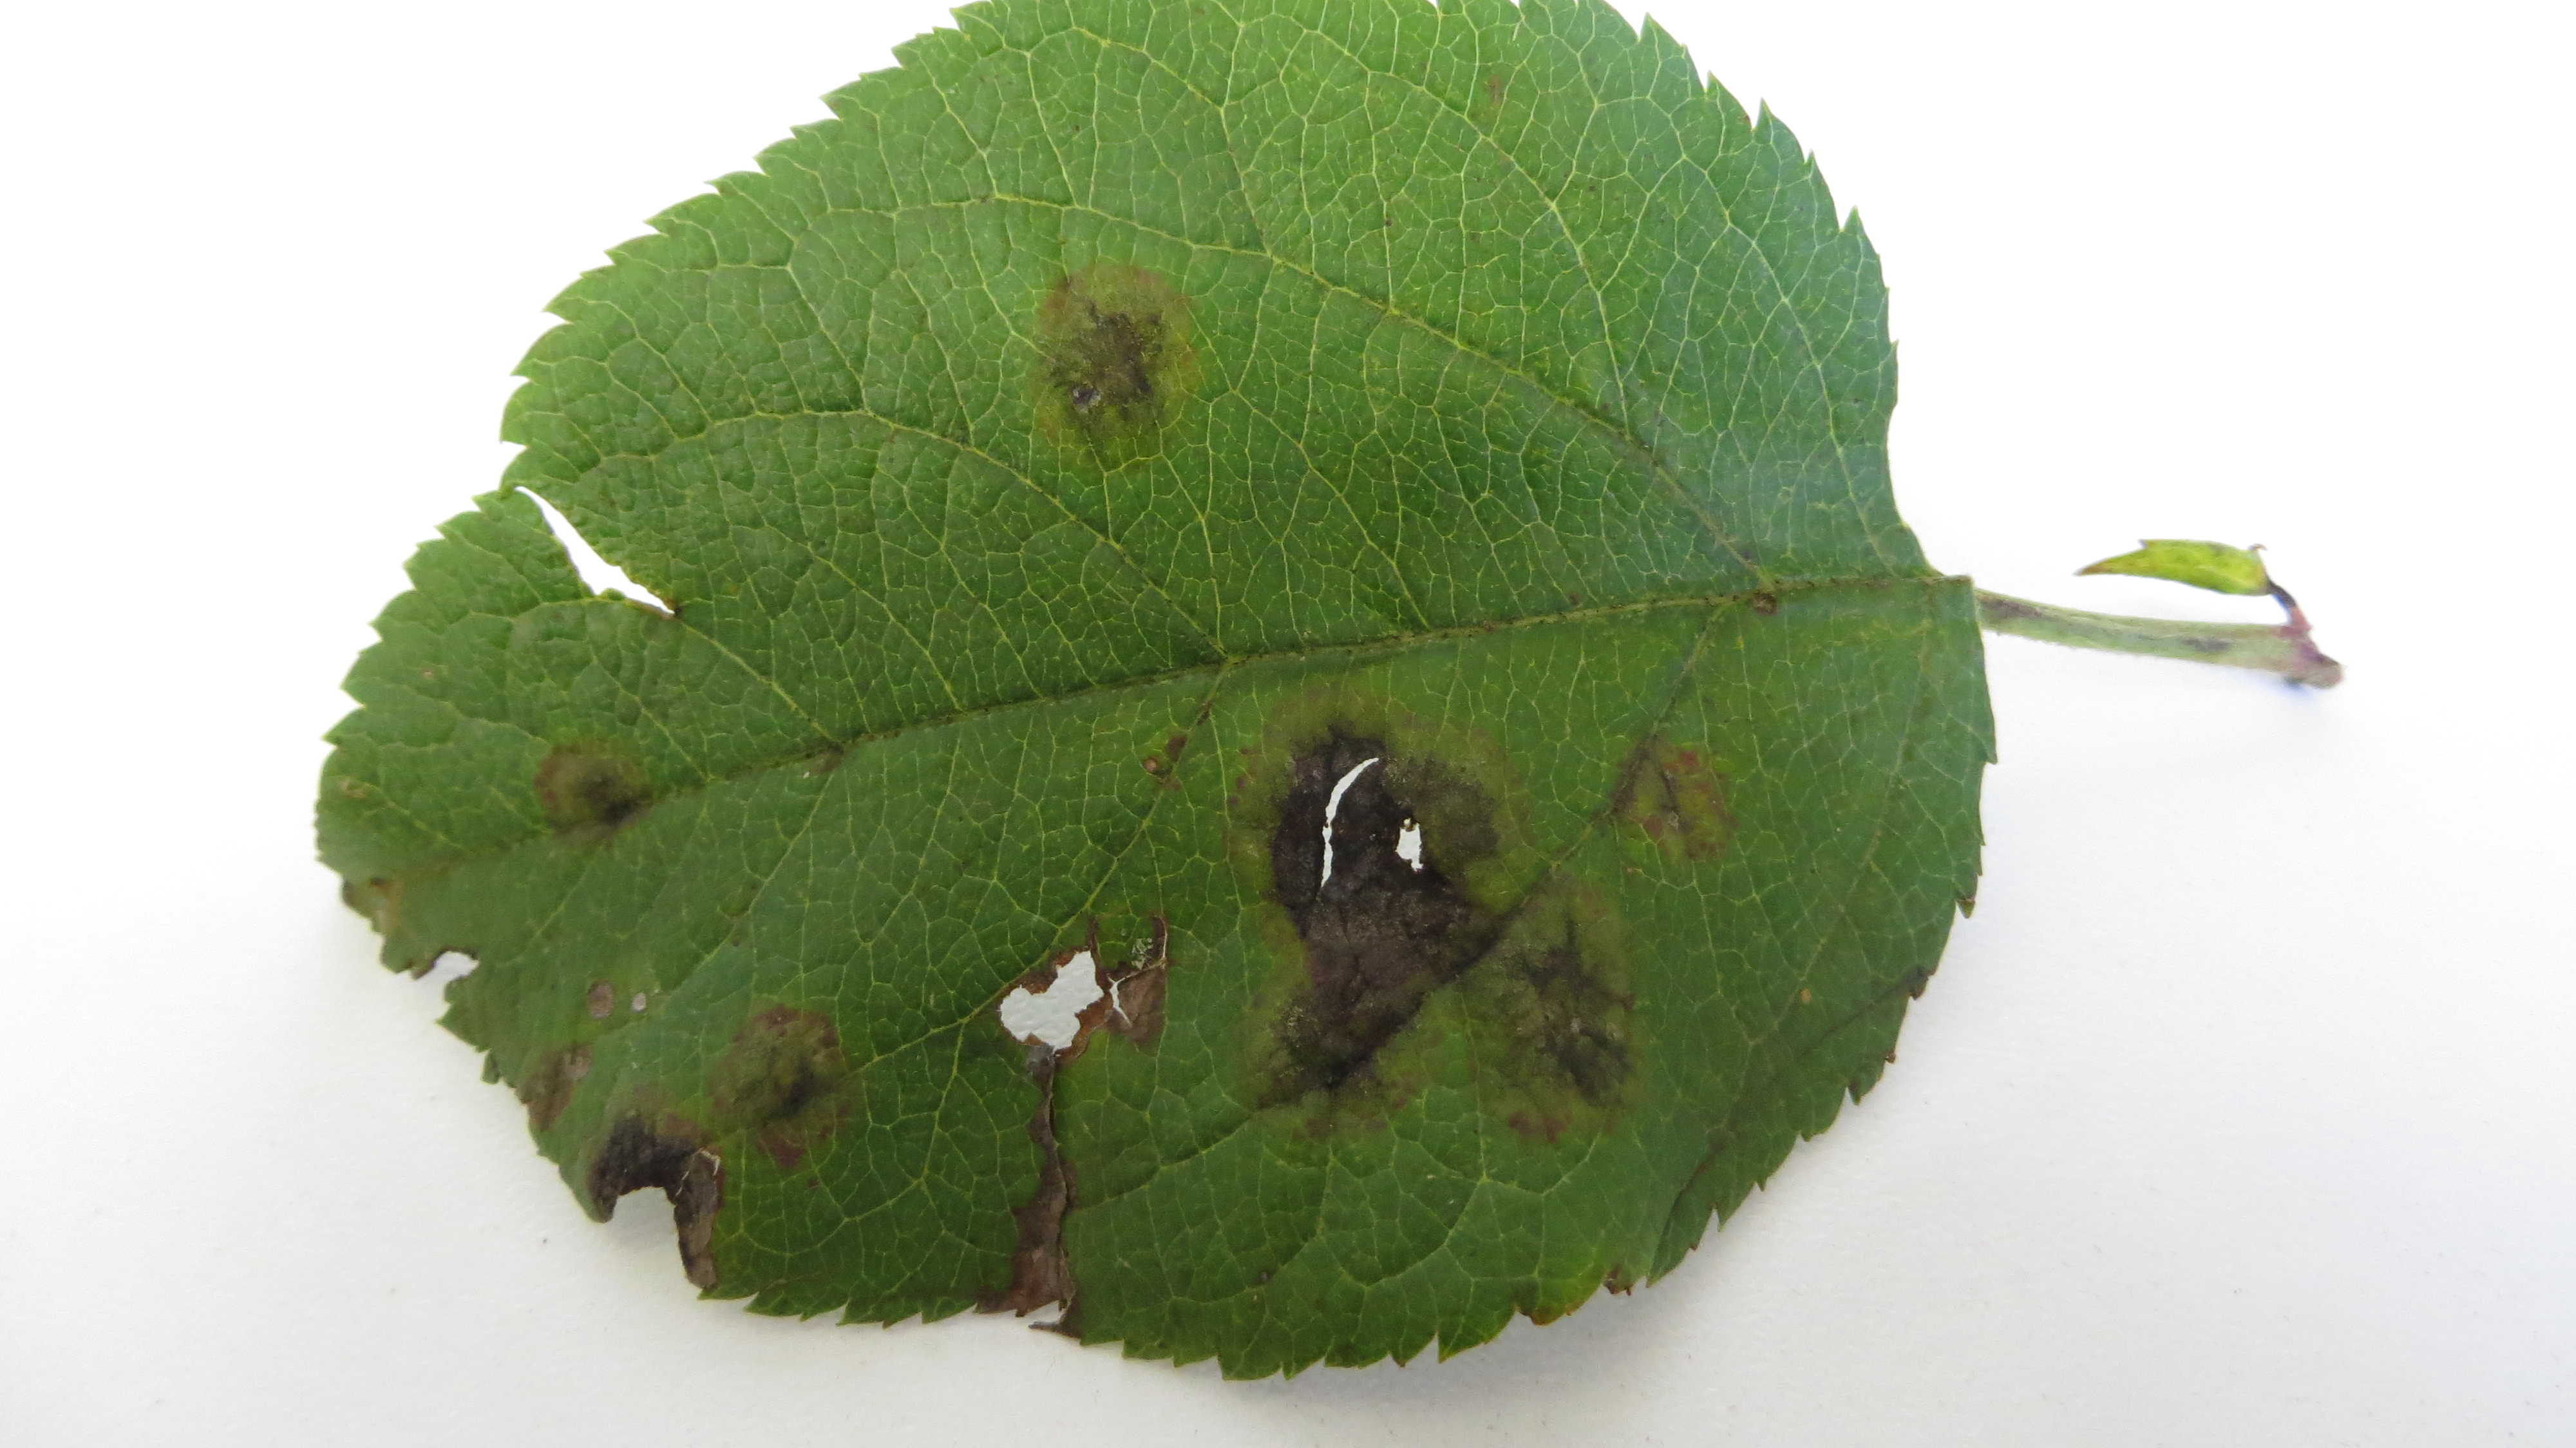sarna: (1212, 676, 1511, 1145), (1474, 850, 1652, 1152), (1024, 255, 1203, 469), (566, 1083, 732, 1273), (715, 995, 869, 1179), (1587, 724, 1746, 864), (524, 724, 665, 860), (1010, 1050, 1074, 1342), (1086, 906, 1171, 1050), (499, 1034, 607, 1136), (317, 836, 412, 938)
